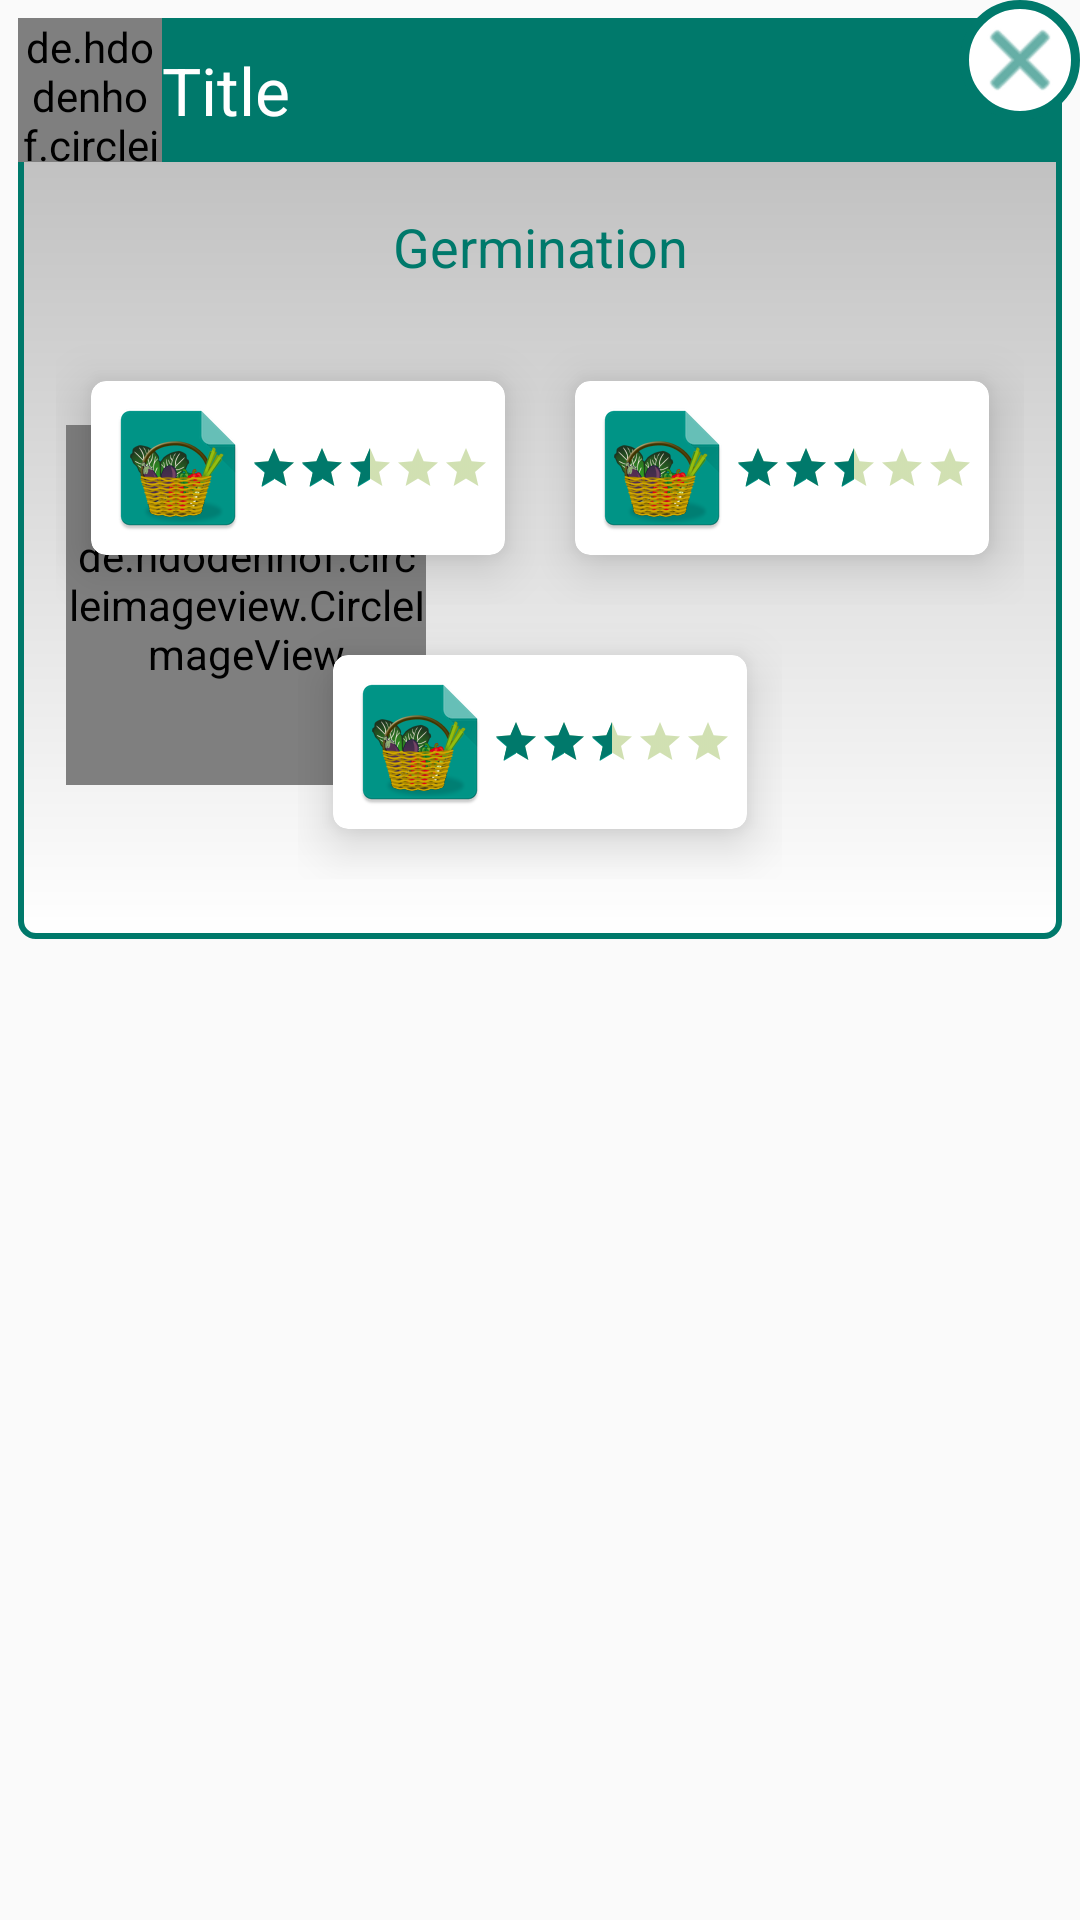

Where icons sit on this 1080 x 1920 app screen, as rect(x1, y1, x2, y2):
close clear cancel: rect(969, 0, 1080, 111)
